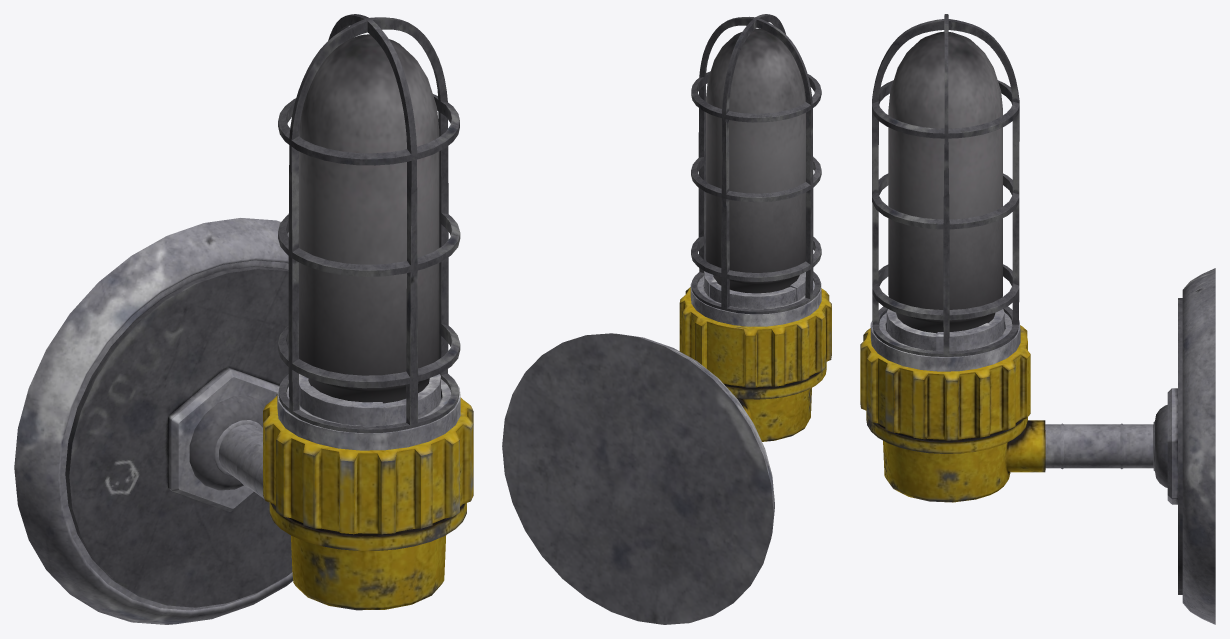
Rendered from industrial_caged_sconce_game.gltf.
The picture shows the model from 3 angles, left to right: view 1: azimuth 30°, elevation 25°; view 2: azimuth 150°, elevation 25°; view 3: azimuth 270°, elevation 25°; orthographic projection. The views are drawn at different scales.
Parts seen in each view (by area): view 1: industrial_caged_sconce_b; view 2: industrial_caged_sconce_b; view 3: industrial_caged_sconce_b.
Part boxes in pixels (left/top/right/bottom): industrial_caged_sconce_b: left=14, top=14, right=473, bottom=624; industrial_caged_sconce_b: left=502, top=14, right=831, bottom=624; industrial_caged_sconce_b: left=860, top=14, right=1215, bottom=624.
Size of the model in its own units: 0.2102 by 0.3819 by 0.209.
Materials: 1 (1 with a texture image).
